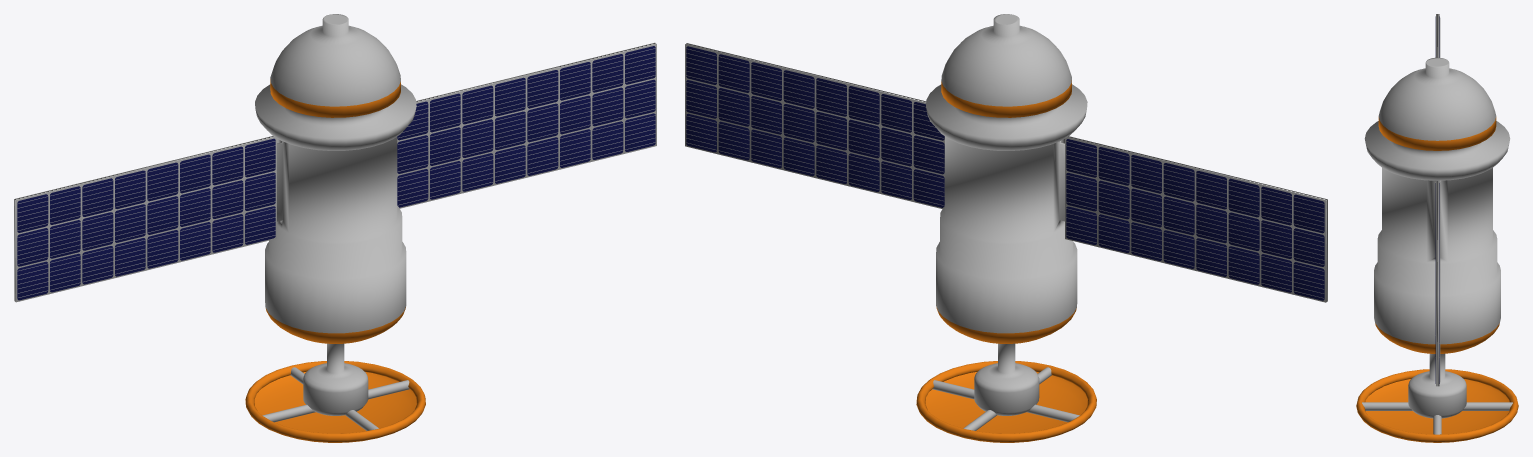
File: satellite_1784874190743_model.glb
The picture shows the model from 3 angles, left to right: view 1: azimuth 30°, elevation 25°; view 2: azimuth 150°, elevation 25°; view 3: azimuth 270°, elevation 25°; orthographic projection. The views are drawn at different scales.
Parts seen in each view (by area): view 1: Cube.001, Sphere, Sphere.001, Cylinder.001; view 2: Cube.001, Sphere, Sphere.001, Cylinder.001; view 3: Sphere, Sphere.001, Cube.001, Cylinder, Cylinder.001.
Part boxes in pixels (x1=…): Cube.001: x1=14, y1=42, x2=656, y2=302; Sphere: x1=255, y1=14, x2=416, y2=415; Sphere.001: x1=245, y1=361, x2=425, y2=442; Cylinder.001: x1=262, y1=380, x2=409, y2=422; Cube.001: x1=685, y1=43, x2=1327, y2=302; Sphere: x1=926, y1=14, x2=1087, y2=415; Sphere.001: x1=916, y1=361, x2=1096, y2=442; Cylinder.001: x1=932, y1=380, x2=1079, y2=422; Sphere: x1=1364, y1=57, x2=1510, y2=418; Sphere.001: x1=1356, y1=369, x2=1518, y2=442; Cube.001: x1=1435, y1=14, x2=1440, y2=386; Cylinder: x1=1362, y1=402, x2=1512, y2=410; Cylinder.001: x1=1433, y1=415, x2=1441, y2=434.
Bounding box in the file's own units: 11.09 × 6.57 × 2.71.
